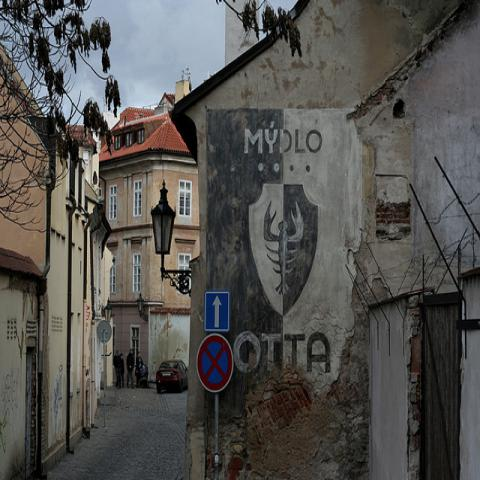car: (156, 359, 188, 394)
